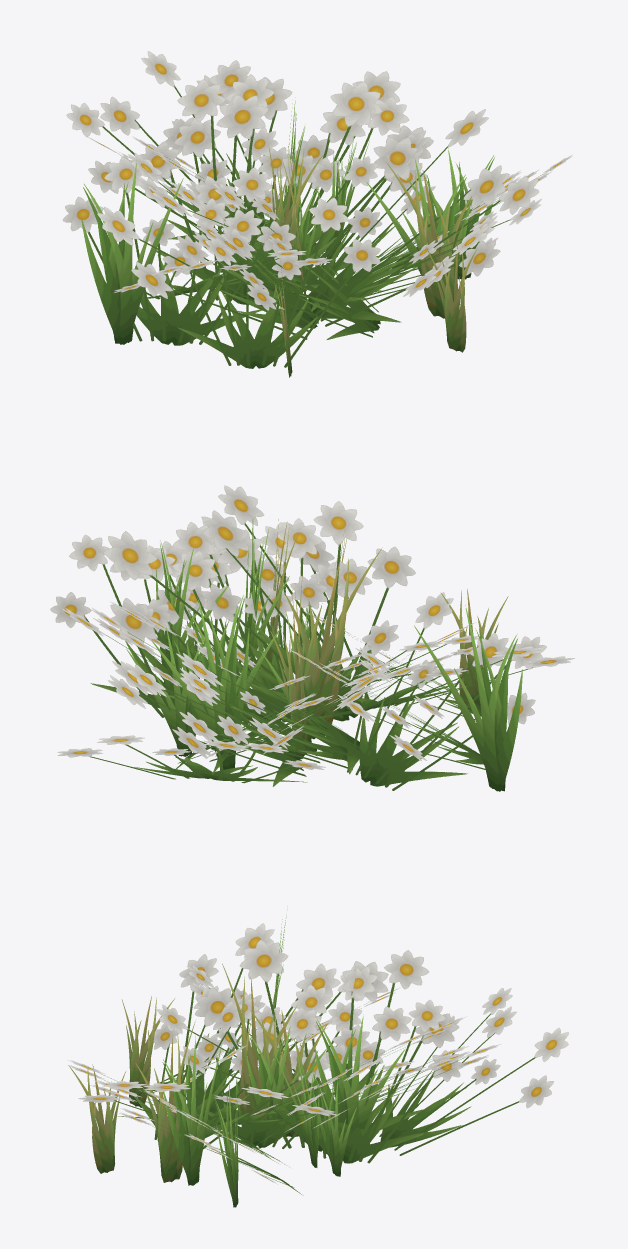
The model's file is flowers_a.glb.
The picture shows the model from 3 angles, top to bottom: view 1: azimuth 30°, elevation 25°; view 2: azimuth 150°, elevation 25°; view 3: azimuth 270°, elevation 25°; orthographic projection. The views are drawn at different scales.
Visible parts, largest first — view 1: flowers, leaves; view 2: flowers, leaves; view 3: flowers, leaves.
Part boxes in pixels (<box>): flowers: <box>62,51,572,368</box>; leaves: <box>81,97,494,377</box>; flowers: <box>50,485,574,790</box>; leaves: <box>126,518,522,791</box>; flowers: <box>67,923,568,1195</box>; leaves: <box>68,909,405,1207</box>.
Bounding box in the file's own units: 1.02 × 0.3387 × 1.06.
Materials: 2 (2 with a texture image).
